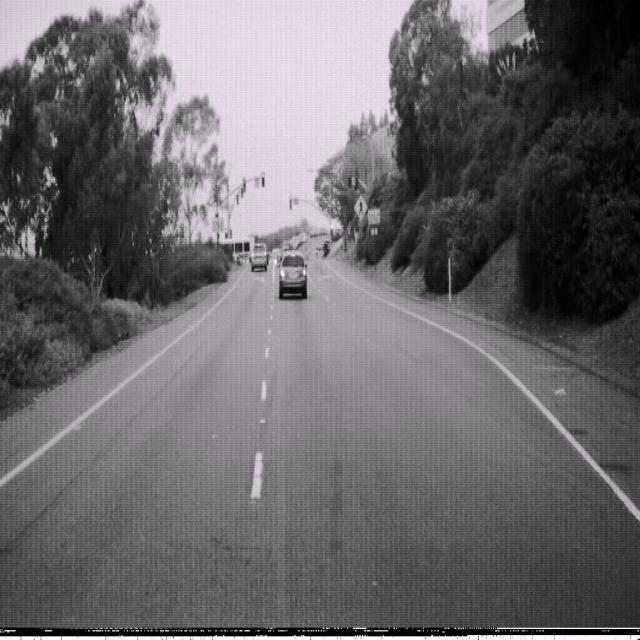pedestrianCrossing: (353, 192, 368, 220)
